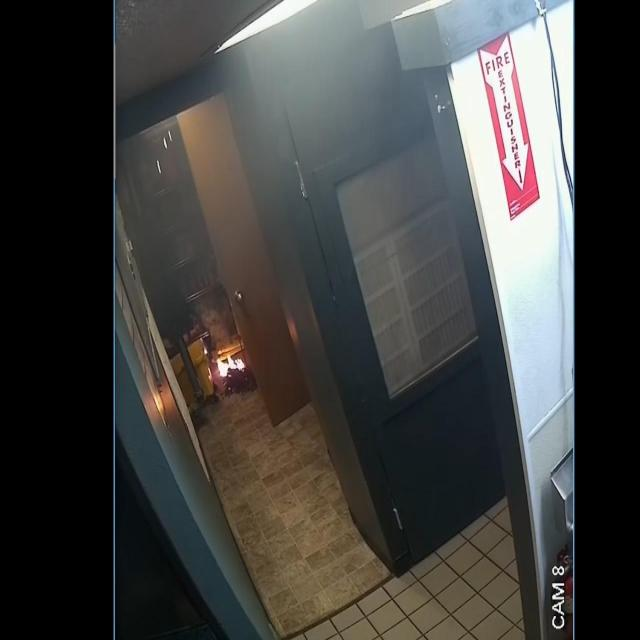fire: (217, 354, 244, 377)
